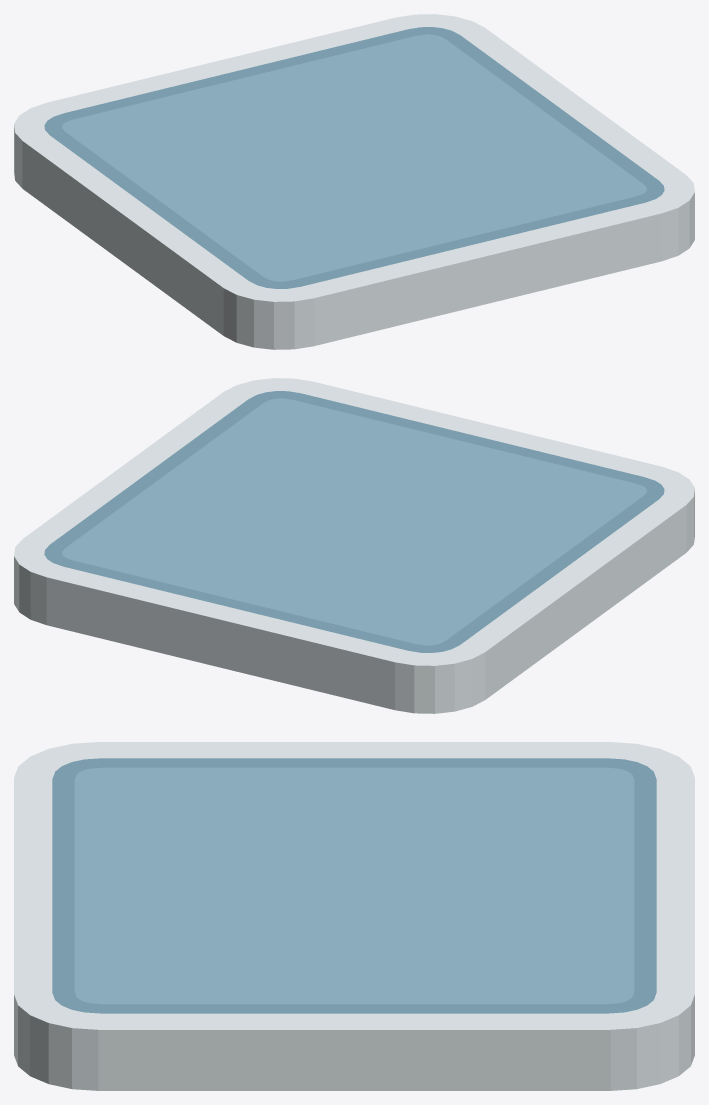
The model's file is CarTile.fbx.
The picture shows the model from 3 angles, top to bottom: view 1: azimuth 30°, elevation 25°; view 2: azimuth 150°, elevation 25°; view 3: azimuth 270°, elevation 25°; orthographic projection. The views are drawn at different scales.
Parts seen in each view (by area): view 1: Cube; view 2: Cube; view 3: Cube.
Boxes of the visible parts, box(x1,y1,x2,y2) form: Cube: box(14, 14, 694, 349); Cube: box(14, 378, 694, 713); Cube: box(14, 742, 694, 1090).
Size of the model in its own units: 1 by 0.099 by 1.
1 material, 1 textured.
